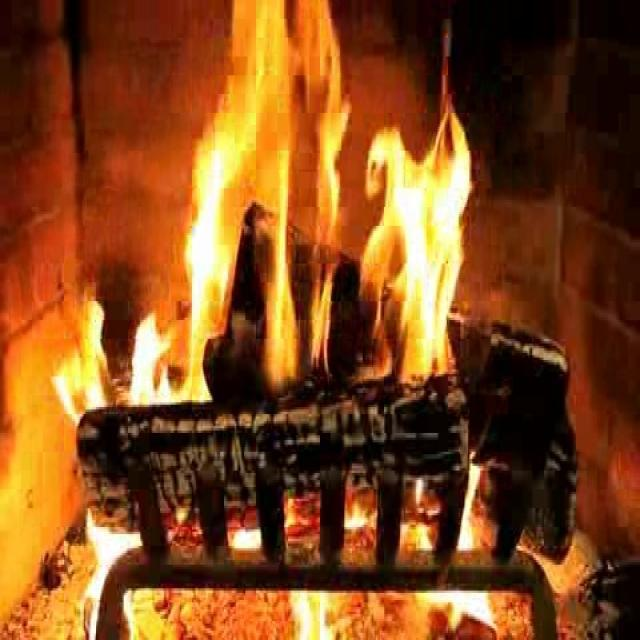Fire: (134, 2, 482, 412)
